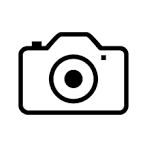camera: (19, 31, 129, 115)
